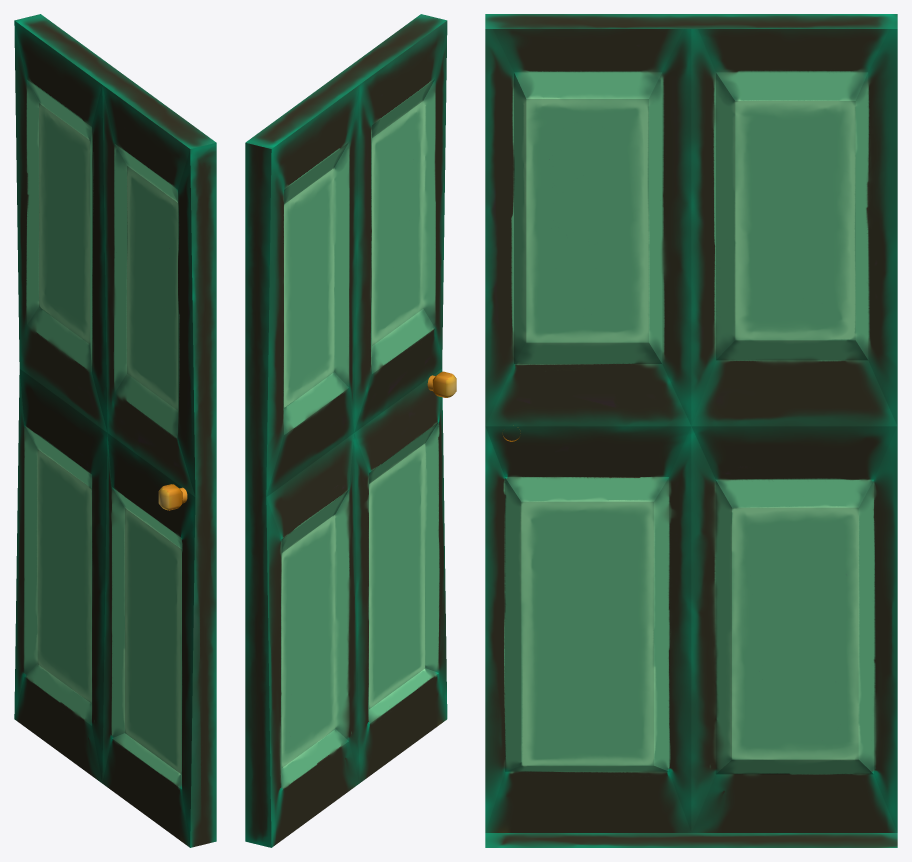
The model's file is DOOR_B.fbx.
3 renders of one model, left to right at view 1: azimuth 30°, elevation 25°; view 2: azimuth 150°, elevation 25°; view 3: azimuth 270°, elevation 25°, orthographic. The views are drawn at different scales.
Parts seen in each view (by area): view 1: door_finished; view 2: door_finished; view 3: door_finished.
Part boxes in pixels (<box>): door_finished: <box>14,14,216,847</box>; door_finished: <box>245,14,456,847</box>; door_finished: <box>485,14,897,847</box>.
Bounding box in the file's own units: 22.7 × 335 × 153.
